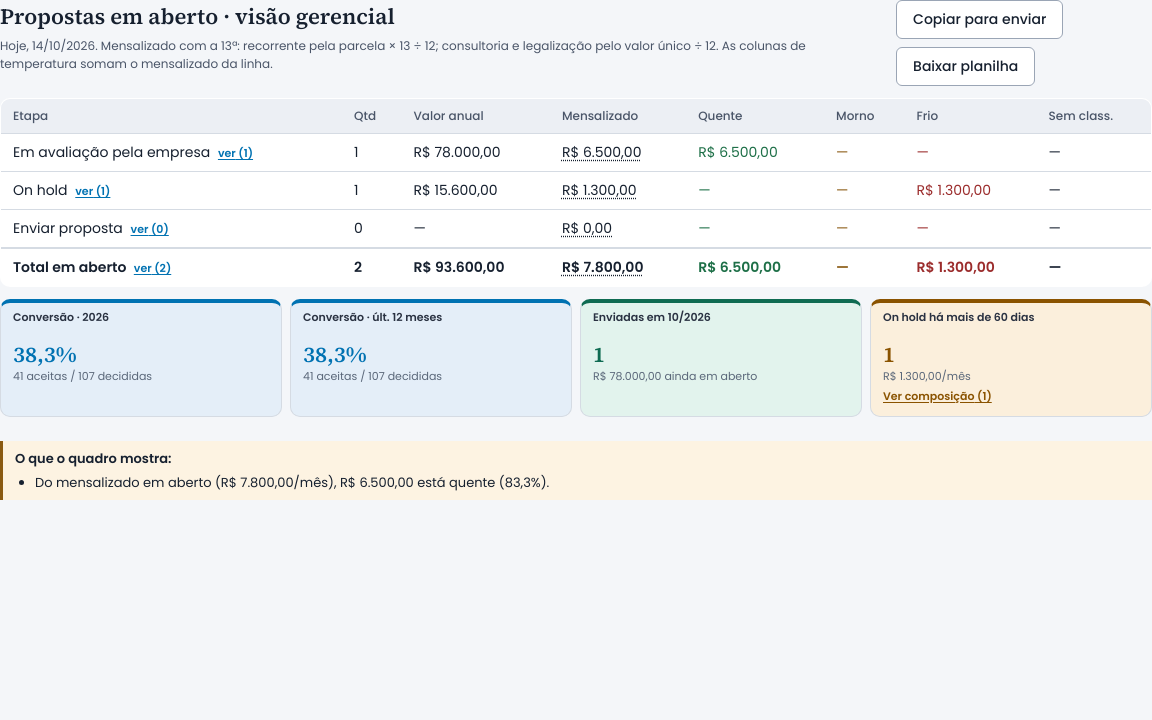
Test: Propostas em aberto · visão gerencial (14/10/2026) › On hold há mais de 60 dias abre a lista com a data de entrada
Click the button "Ver composição (1)".
click(937, 395)  # box x1=883 y1=386 x2=992 y2=404
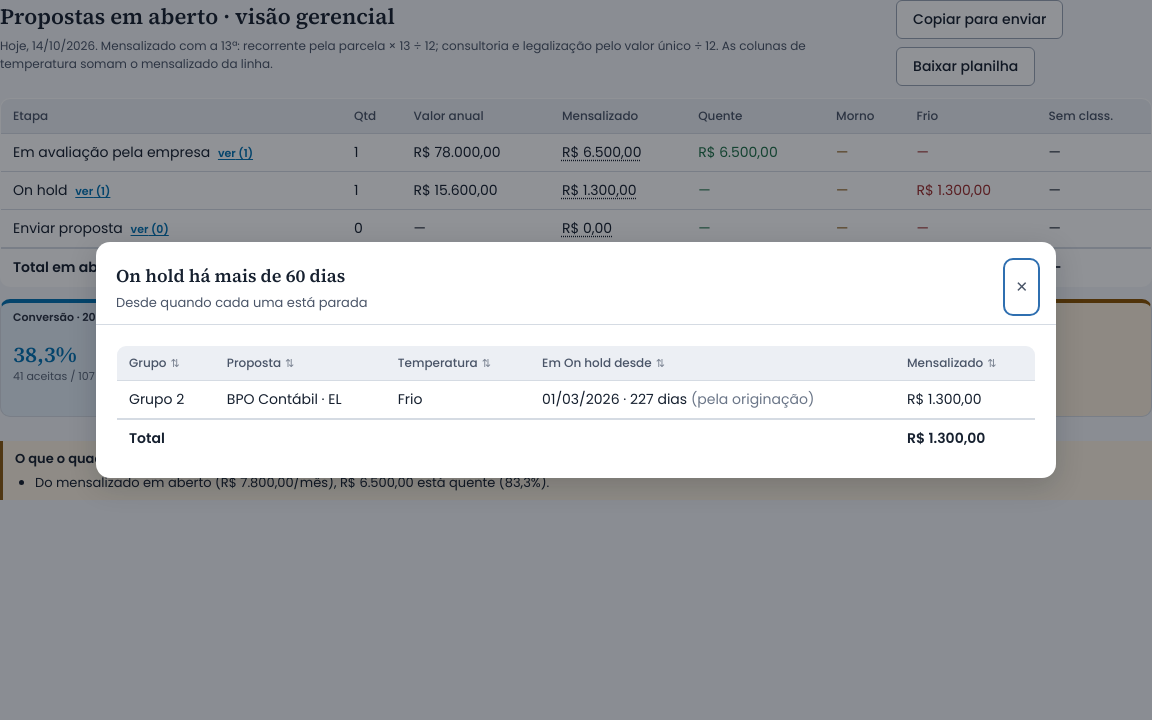
Check: the text "01/03/2026 · 227 dias (pela originação)" is shown, box x1=530 y1=381 x2=895 y2=419
Check: the text "(pela originação)" is shown, box x1=687 y1=389 x2=814 y2=409
